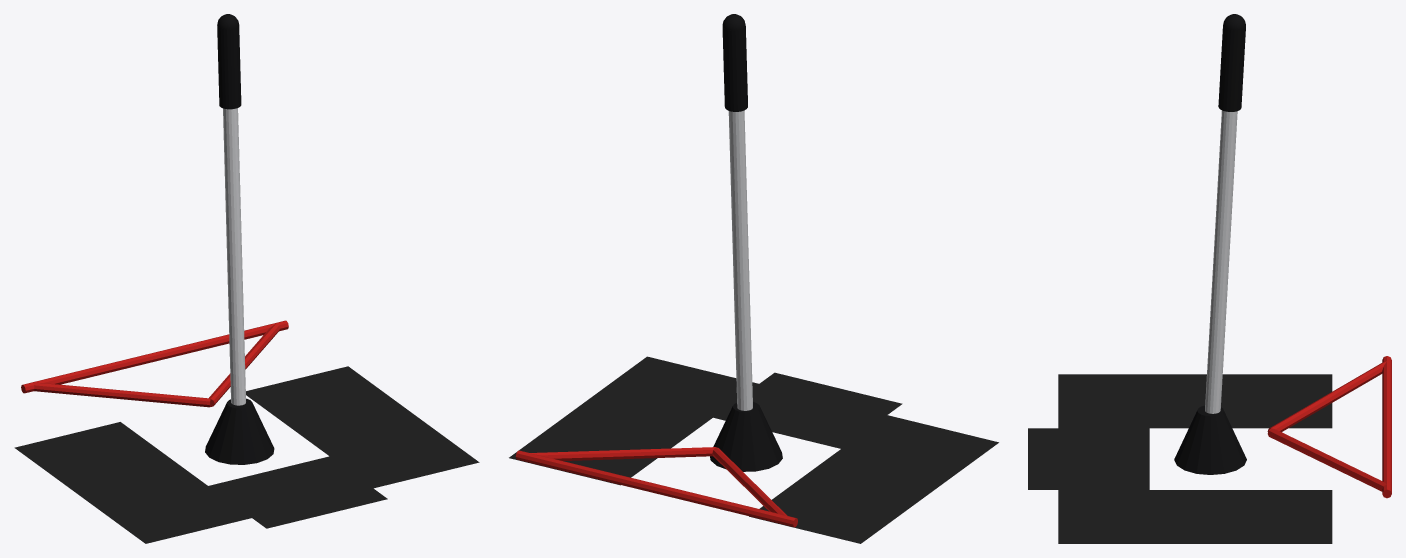
Rendered from cab_asiento.glb.
3 renders of one model, left to right at view 1: azimuth 30°, elevation 25°; view 2: azimuth 150°, elevation 25°; view 3: azimuth 270°, elevation 25°, orthographic. The views are drawn at different scales.
Parts seen in each view (by area): view 1: asiento_antideslizante, asiento_rojo, palanca_cana, asiento_goma, palanca_puno; view 2: asiento_antideslizante, asiento_rojo, palanca_cana, asiento_goma, palanca_puno; view 3: asiento_antideslizante, palanca_cana, asiento_rojo, asiento_goma, palanca_puno.
Part boxes in pixels (bbox=[...]): asiento_antideslizante: bbox=[14, 366, 479, 543]; asiento_rojo: bbox=[21, 320, 288, 407]; palanca_cana: bbox=[223, 108, 245, 405]; asiento_goma: bbox=[205, 398, 274, 464]; palanca_puno: bbox=[217, 14, 241, 109]; asiento_antideslizante: bbox=[509, 356, 998, 543]; asiento_rojo: bbox=[515, 447, 797, 527]; palanca_cana: bbox=[728, 110, 752, 410]; asiento_goma: bbox=[710, 402, 782, 471]; palanca_puno: bbox=[722, 14, 747, 111]; asiento_antideslizante: bbox=[1028, 374, 1332, 543]; palanca_cana: bbox=[1205, 110, 1237, 413]; asiento_rojo: bbox=[1267, 356, 1391, 498]; asiento_goma: bbox=[1174, 405, 1246, 474]; palanca_puno: bbox=[1218, 14, 1245, 111].
Bounding box in the file's own units: 0.66 × 0.806 × 0.598.
